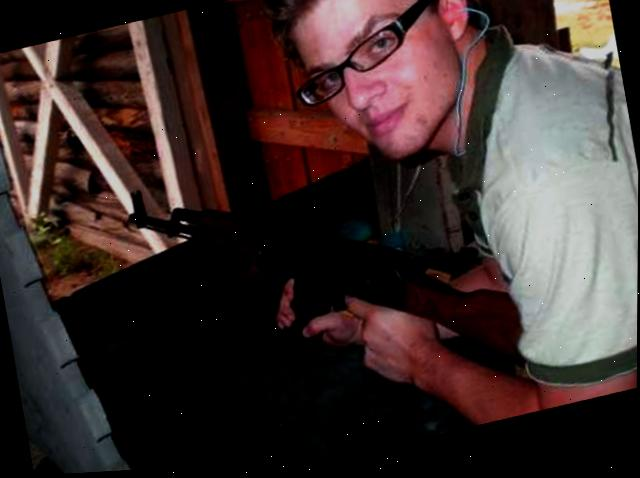rifle: (82, 51, 550, 474)
